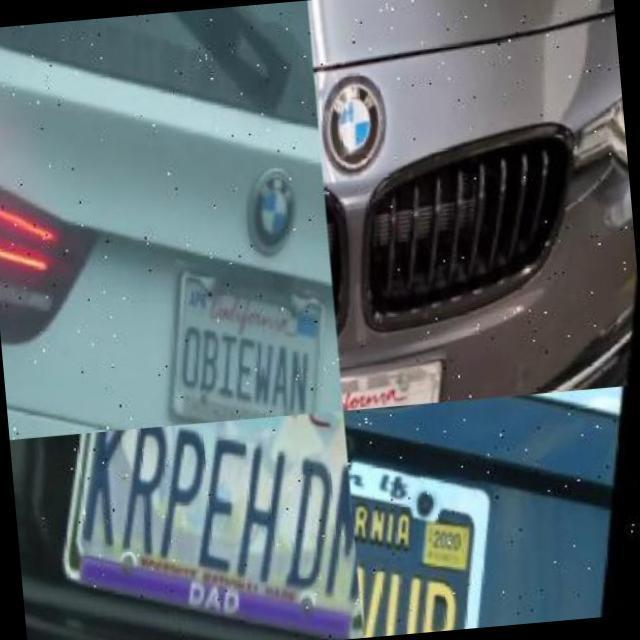License Plate: (53, 410, 363, 640), (344, 395, 536, 637), (152, 238, 340, 426), (338, 347, 441, 409)
